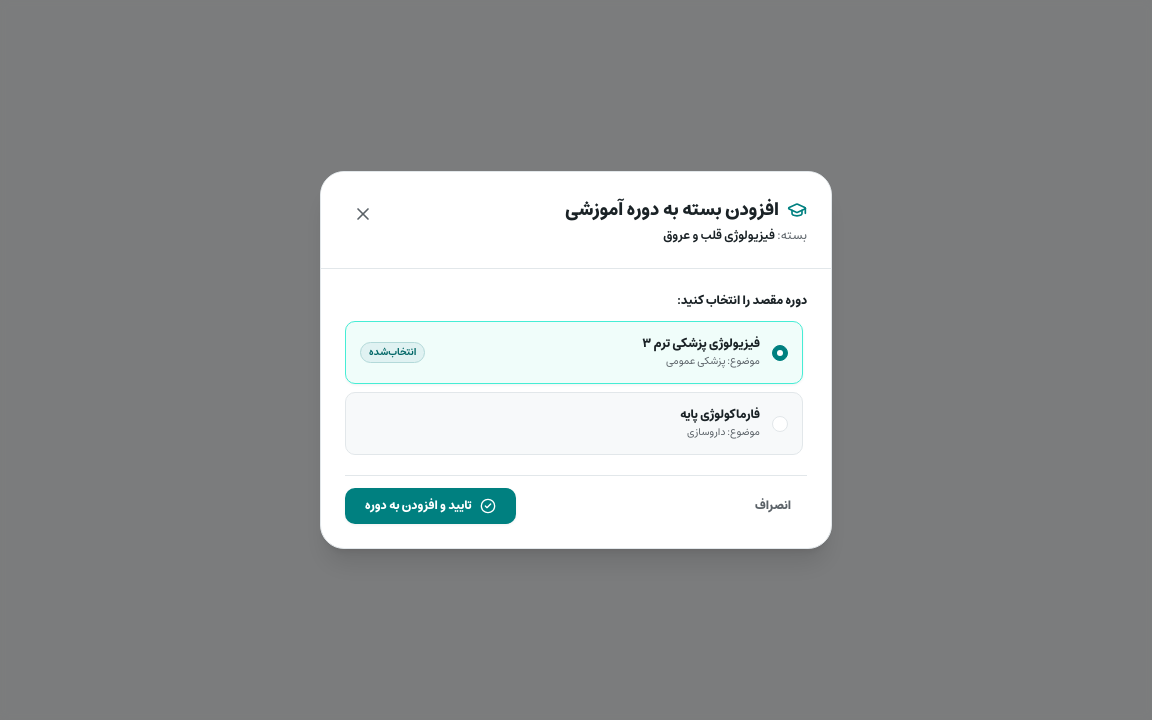
Public Content Library & Content Packs Web UI Suite › Add to Course Selection & Result Flows › maps 403, 404, 400 error codes to student-friendly Persian messages
Expected: the heading "فیزیولوژی پزشکی ترم ۳" is shown, [642, 336, 760, 352]
Click the button "تایید و افزودن به دوره" at coordinates (430, 506), box [345, 488, 516, 524]
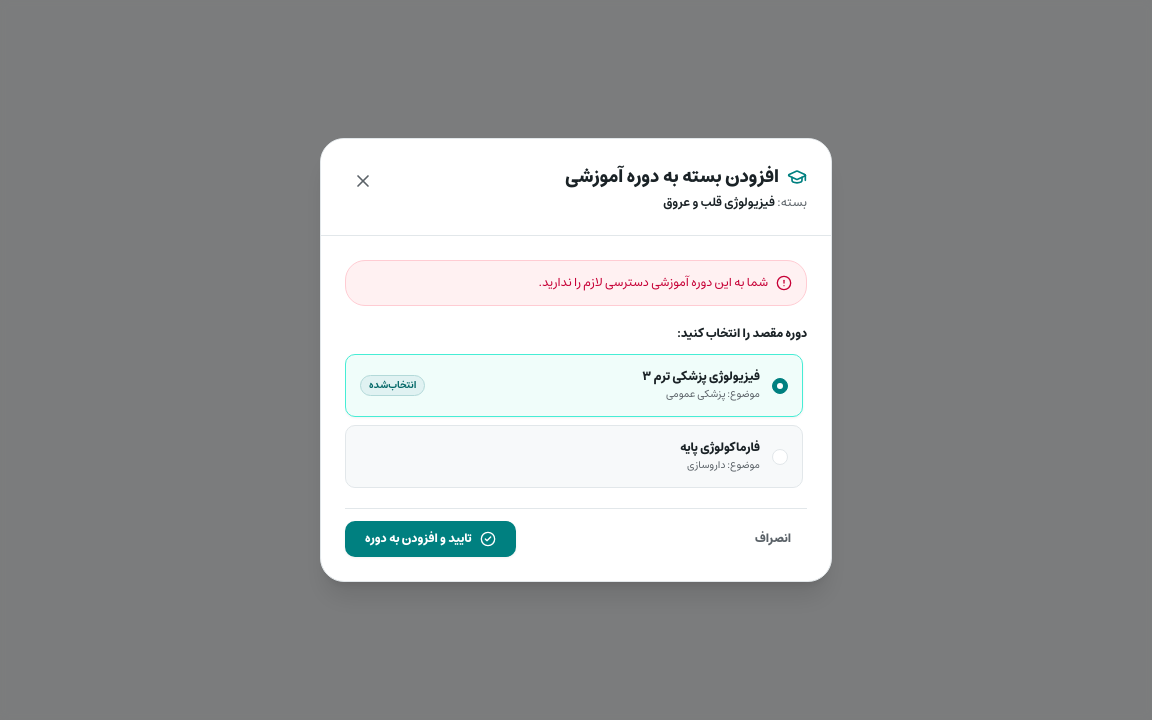
Result: the text "شما به این دوره آموزشی دسترسی لازم را ندارید." is shown at [539, 275, 768, 291]
